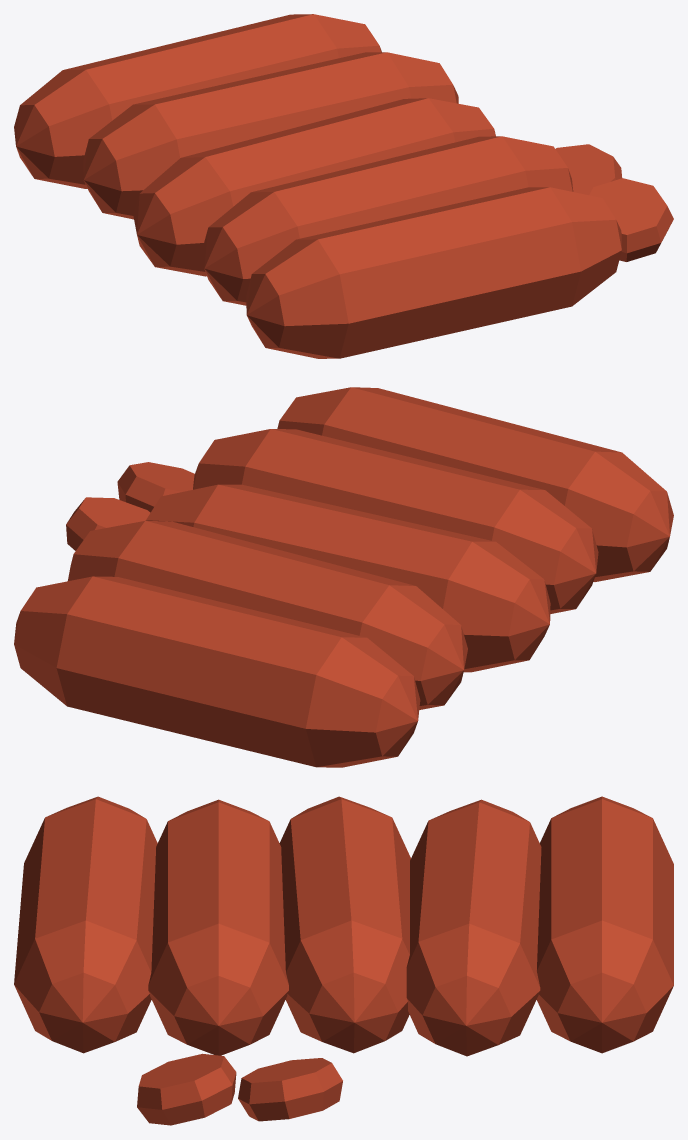
File: SM_Cook_Topping_Sausage_01.fbx
3 views of the same model, one above another, from view 1: azimuth 30°, elevation 25°; view 2: azimuth 150°, elevation 25°; view 3: azimuth 270°, elevation 25° (orthographic). The views are drawn at different scales.
Visible parts, largest first — view 1: SM_Cook_Topping_Sausage_01; view 2: SM_Cook_Topping_Sausage_01; view 3: SM_Cook_Topping_Sausage_01.
Part boxes in pixels (x1,y1,x2,y2): SM_Cook_Topping_Sausage_01: (14,14,673,358); SM_Cook_Topping_Sausage_01: (14,387,673,767); SM_Cook_Topping_Sausage_01: (14,796,673,1125).
Bounding box in the file's own units: 0.1451 × 0.0382 × 0.1652.
Materials: 1 (1 with a texture image).
